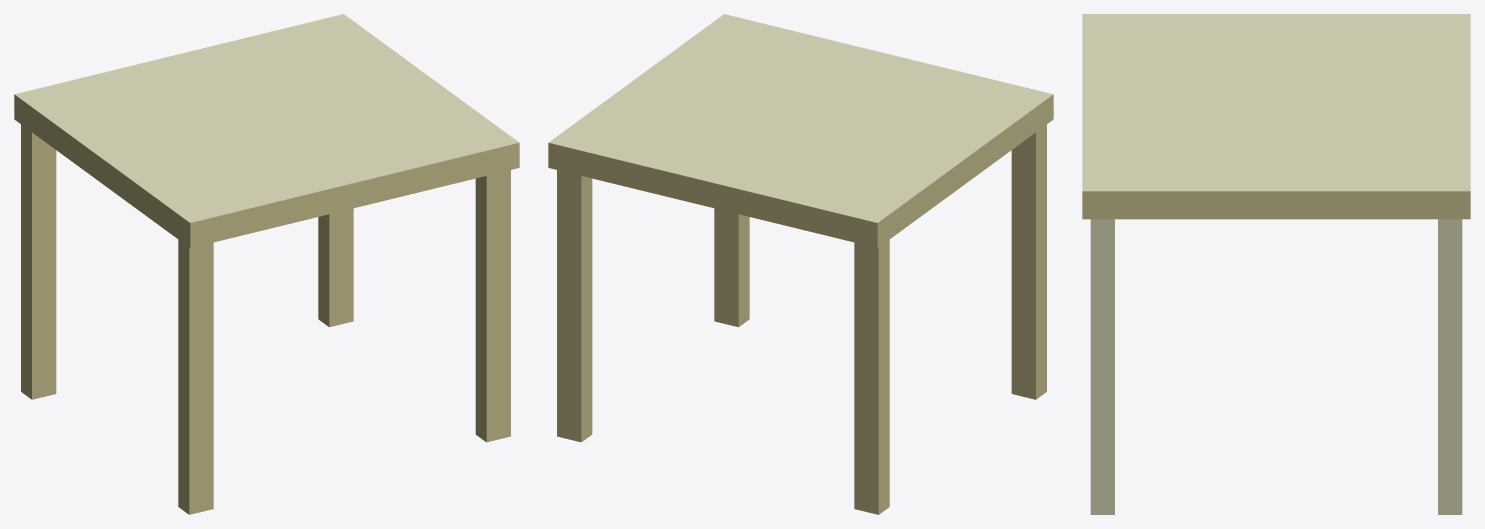
Rendered from table_001.glb.
The picture shows the model from 3 angles, left to right: view 1: azimuth 30°, elevation 25°; view 2: azimuth 150°, elevation 25°; view 3: azimuth 270°, elevation 25°; orthographic projection. The views are drawn at different scales.
Parts seen in each view (by area): view 1: table_001; view 2: table_001; view 3: table_001.
Boxes of the visible parts, x1,y1,x2,y2 form: table_001: (14,14,519,514); table_001: (548,14,1053,514); table_001: (1082,14,1470,514).
Size of the model in its own units: 0.7646 by 0.6553 by 0.7072.
Materials: 1 (1 with a texture image).
